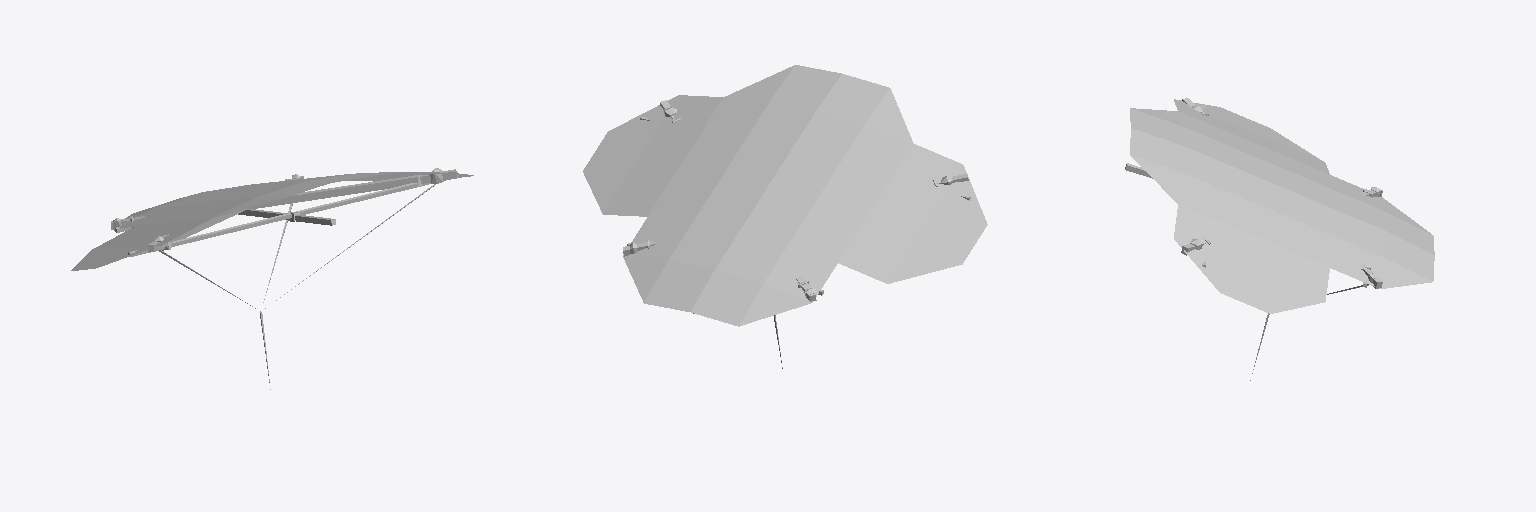
File: KITE.OBJ
3 renders of one model, left to right at view 1: azimuth 30°, elevation 25°; view 2: azimuth 150°, elevation 25°; view 3: azimuth 270°, elevation 25°, orthographic.
Visible parts, largest first — view 1: Wing_Kpa__m_Wing2, Wing_Kpa__m_Frame2; view 2: Wing_Kpa__m_Wing2, Wing_Kpa__m_Frame2; view 3: Wing_Kpa__m_Wing2, Wing_Kpa__m_Frame2.
Part boxes in pixels (left/top/right/bottom): Wing_Kpa__m_Wing2: left=71, top=172, right=473, bottom=270; Wing_Kpa__m_Frame2: left=111, top=168, right=458, bottom=389; Wing_Kpa__m_Wing2: left=583, top=65, right=987, bottom=326; Wing_Kpa__m_Frame2: left=623, top=100, right=970, bottom=368; Wing_Kpa__m_Wing2: left=1130, top=99, right=1434, bottom=313; Wing_Kpa__m_Frame2: left=1125, top=98, right=1382, bottom=380.
Bounding box in the file's own units: 31.69 × 20.4 × 22.37.